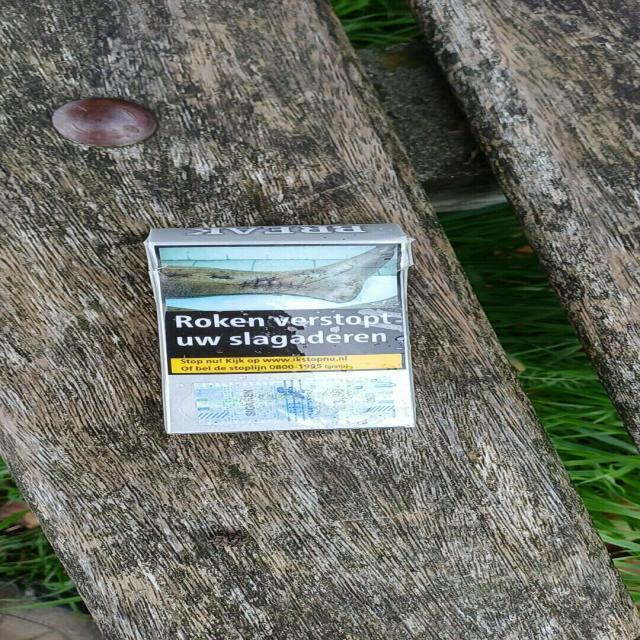Paper: (138, 220, 423, 438)
